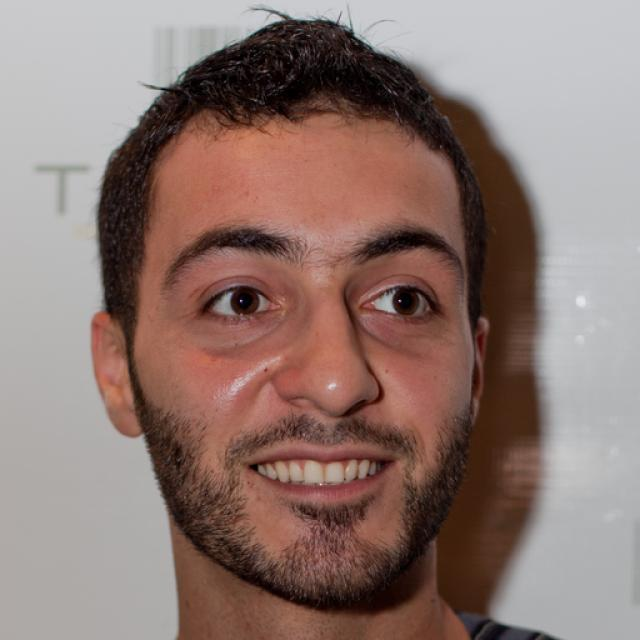Dark Circle: (200, 316, 288, 345), (359, 315, 442, 339)
